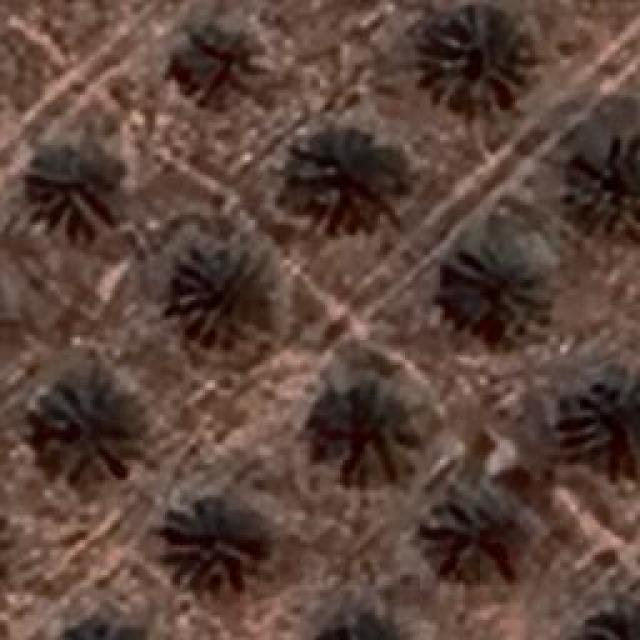PalmTree: (63, 36, 608, 622), (320, 375, 430, 480), (38, 380, 138, 482), (430, 2, 528, 100), (435, 484, 530, 578), (175, 245, 270, 338), (445, 242, 545, 330), (162, 505, 260, 590), (560, 380, 638, 472), (568, 138, 638, 238), (172, 14, 258, 88), (308, 141, 382, 224), (306, 611, 414, 640), (49, 617, 153, 640), (0, 507, 24, 602), (49, 623, 156, 640)
